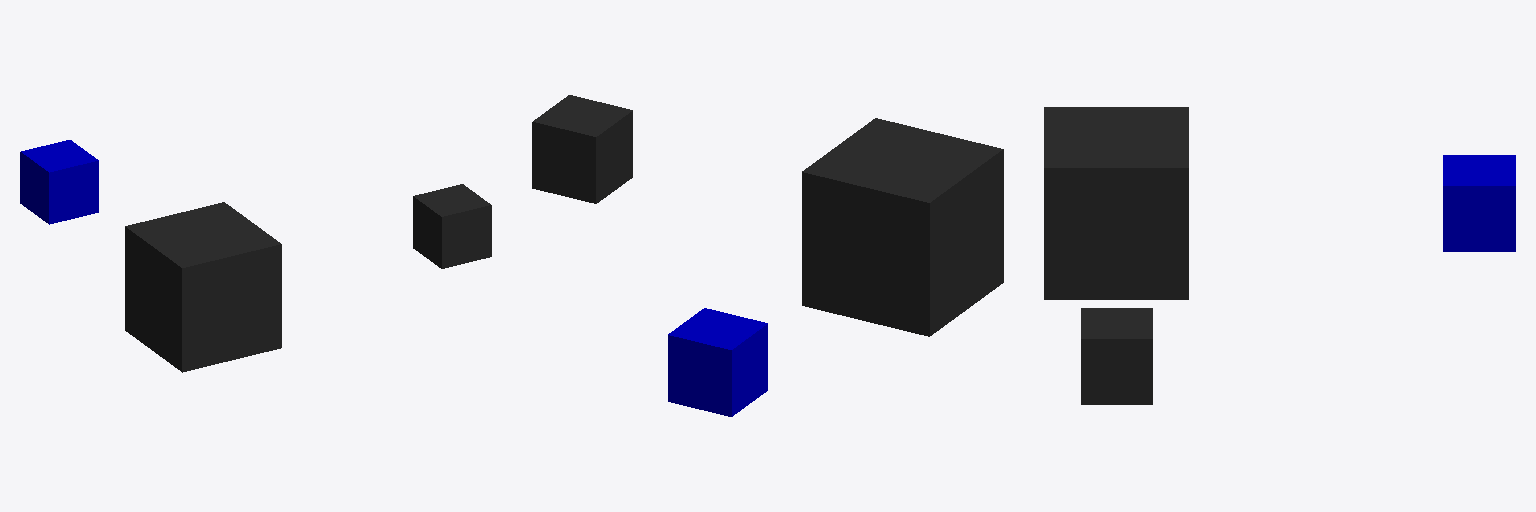
URDF robot description (named_materials):
<?xml version="1.0"?>
<!-- A robot whose named materials are defined inside link visuals and referenced by
     name from other links, the way the Tiago description writes them. -->
<robot name="named_materials">
  <material name="Blue">
    <color rgba="0.0 0.0 0.8 1.0"/>
  </material>

  <link name="base_link">
    <visual>
      <geometry>
        <box size="0.2 0.2 0.2"/>
      </geometry>
      <material name="DarkGrey">
        <color rgba="0.2 0.2 0.2 1.0"/>
      </material>
    </visual>
  </link>

  <link name="referencing_link">
    <visual>
      <geometry>
        <box size="0.1 0.1 0.1"/>
      </geometry>
      <material name="DarkGrey"/>
    </visual>
  </link>

  <link name="top_level_material_link">
    <visual>
      <geometry>
        <box size="0.1 0.1 0.1"/>
      </geometry>
      <material name="Blue"/>
    </visual>
  </link>

  <link name="mesh_link">
    <visual>
      <geometry>
        <mesh filename="milk.stl"/>
      </geometry>
      <material name="DarkGrey"/>
    </visual>
  </link>

  <joint name="base_to_mesh" type="fixed">
    <parent link="base_link"/>
    <child link="mesh_link"/>
    <origin xyz="0 0 0.5" rpy="0 0 0"/>
  </joint>

  <joint name="base_to_referencing" type="fixed">
    <parent link="base_link"/>
    <child link="referencing_link"/>
    <origin xyz="0.5 0 0" rpy="0 0 0"/>
  </joint>

  <joint name="base_to_top_level" type="fixed">
    <parent link="base_link"/>
    <child link="top_level_material_link"/>
    <origin xyz="0 0.5 0" rpy="0 0 0"/>
  </joint>
</robot>

--- Facts derived from the render (not from the file) ---
The picture shows the robot from 3 angles, left to right: view 1: azimuth 30°, elevation 25°; view 2: azimuth 150°, elevation 25°; view 3: azimuth 270°, elevation 25°; orthographic projection.
Model named_materials with 4 links and 3 joints (3 fixed), rooted at base_link, posed every joint at zero.
Links seen in each view (by area): view 1: base_link, referencing_link, top_level_material_link; view 2: base_link, referencing_link, top_level_material_link; view 3: base_link, top_level_material_link, referencing_link.
Link boxes in pixels (box(x1,y1,x2,y2)): base_link: box(125, 202, 281, 372); referencing_link: box(413, 184, 491, 268); top_level_material_link: box(20, 140, 98, 224); base_link: box(802, 118, 1003, 336); referencing_link: box(532, 95, 632, 203); top_level_material_link: box(668, 308, 767, 416); base_link: box(1044, 107, 1188, 299); top_level_material_link: box(1443, 155, 1515, 251); referencing_link: box(1081, 308, 1152, 404).
Size in the robot's own frame: 0.65 by 0.65 by 0.2 metres.
Meshes: 1 distinct files referenced, 0 mesh visuals loaded (none loaded); not drawn: 1 (reference not matched to a file when rendering).
